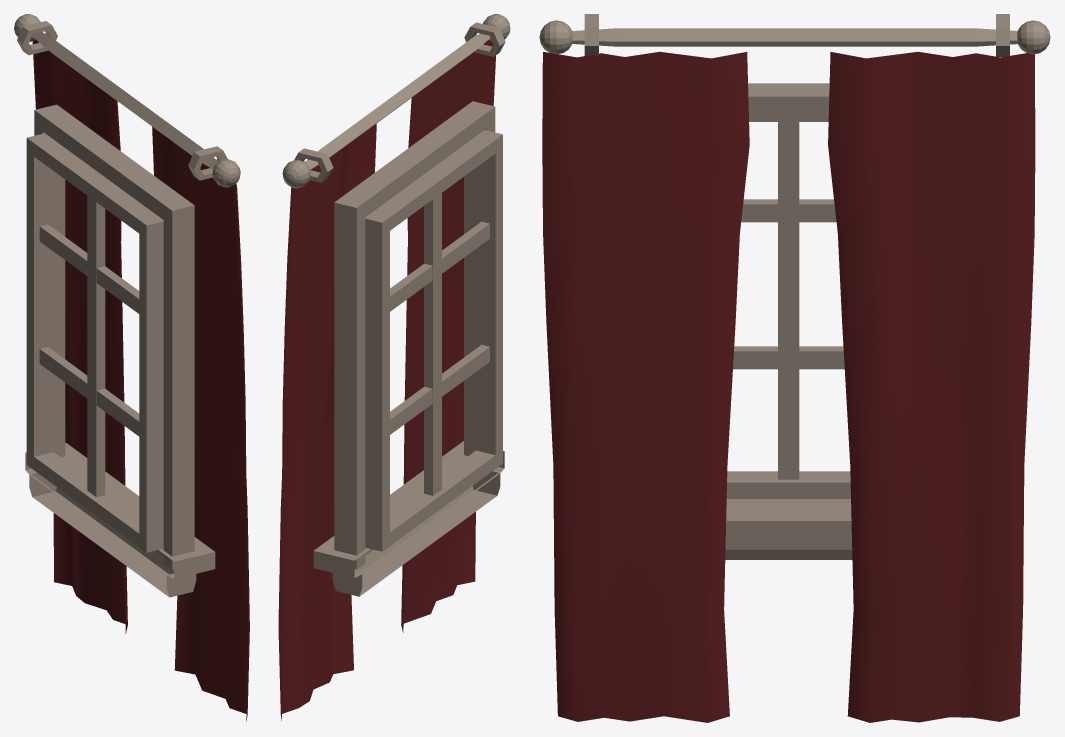
File: Wall_Window03.fbx
3 views of the same model, side by side, from view 1: azimuth 30°, elevation 25°; view 2: azimuth 150°, elevation 25°; view 3: azimuth 270°, elevation 25° (orthographic). The views are drawn at different scales.
Parts seen in each view (by area): view 1: Wall_Window03; view 2: Wall_Window03; view 3: Wall_Window03.
Boxes of the visible parts, x1,y1,x2,y2 form: Wall_Window03: (14,14,249,721); Wall_Window03: (278,14,510,720); Wall_Window03: (539,14,1050,722).
Size of the model in its own units: 59.51 by 430 by 292.
